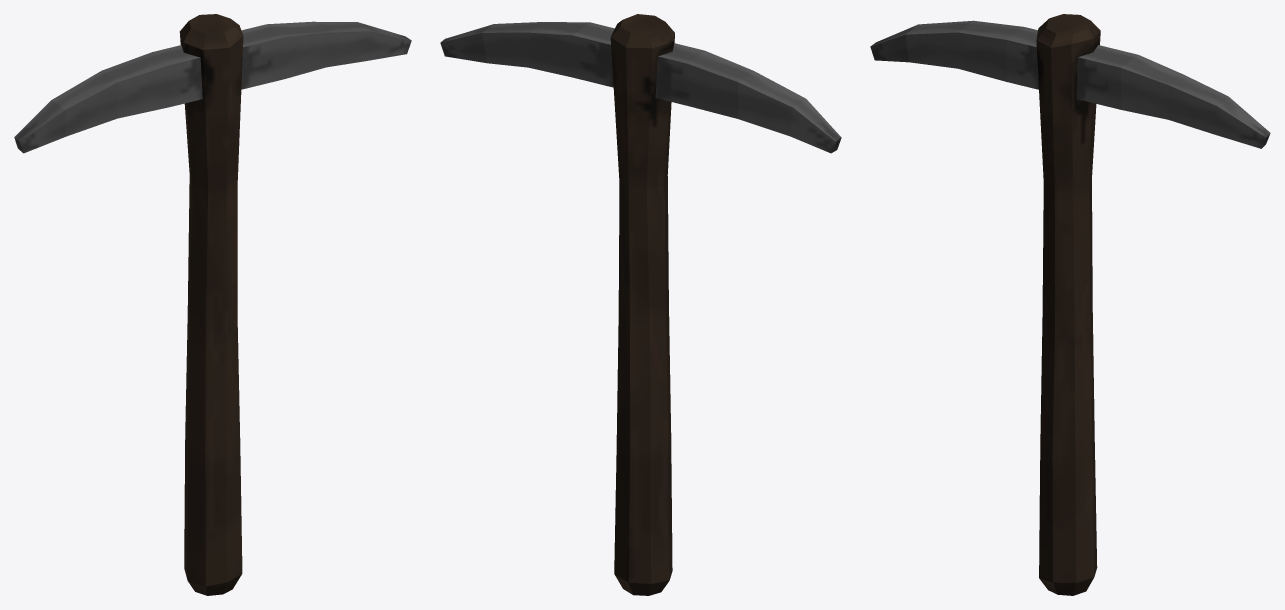
File: Pickaxe.fbx
3 views of the same model, side by side, from view 1: azimuth 30°, elevation 25°; view 2: azimuth 150°, elevation 25°; view 3: azimuth 330°, elevation 25° (orthographic).
Visible parts, largest first — view 1: Handle, Metal; view 2: Handle, Metal; view 3: Handle, Metal.
Boxes of the visible parts, x1=… form: Handle: x1=179, y1=14, x2=243, y2=595; Metal: x1=14, y1=21, x2=411, y2=153; Handle: x1=610, y1=14, x2=674, y2=595; Metal: x1=440, y1=22, x2=841, y2=153; Handle: x1=1036, y1=14, x2=1100, y2=595; Metal: x1=870, y1=20, x2=1270, y2=148.
Bounding box in the file's own units: 0.5897 × 0.8062 × 0.0892.
